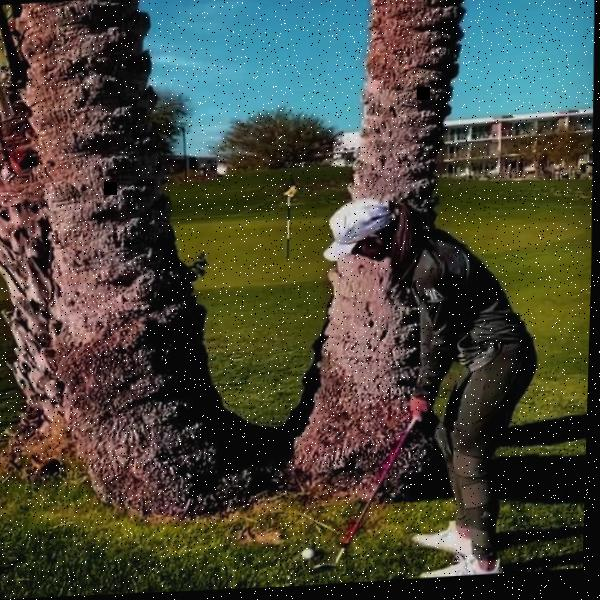ClubHead: (316, 567, 340, 574), (304, 552, 317, 562)
